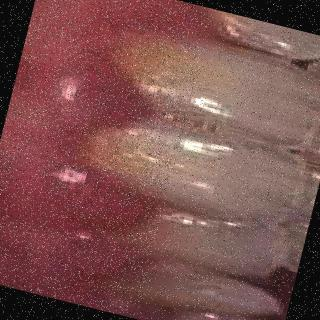Gum Swelling: (42, 33, 146, 145), (21, 236, 152, 308), (10, 164, 142, 232)
